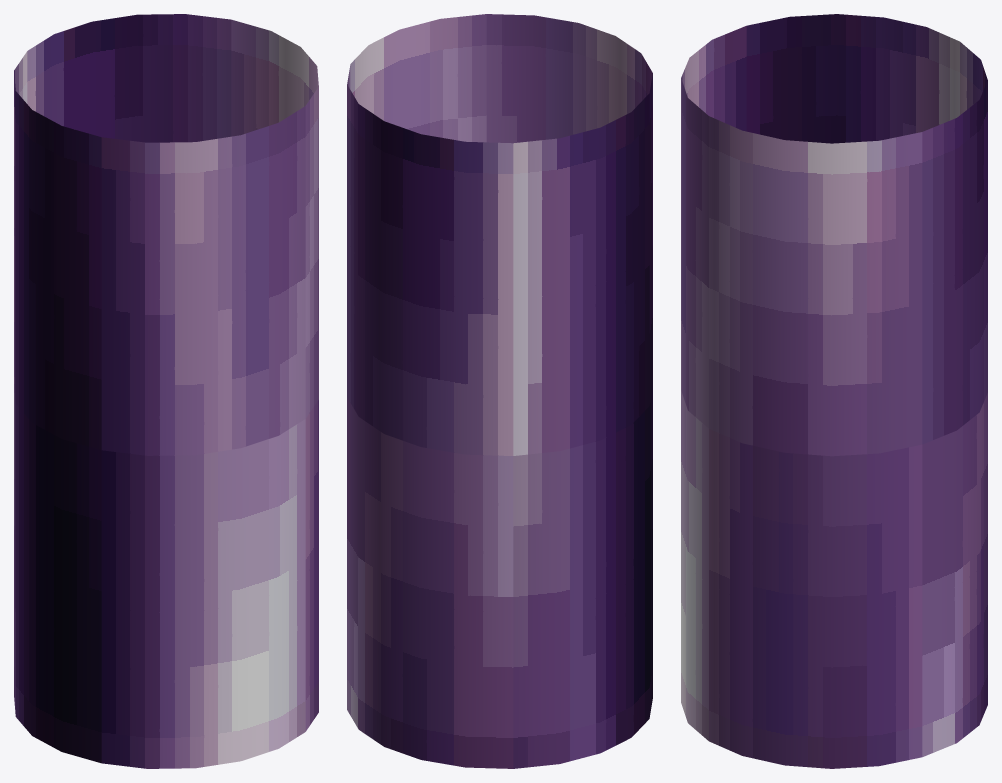
The model's file is effect005_02.FBX.
3 renders of one model, left to right at view 1: azimuth 30°, elevation 25°; view 2: azimuth 150°, elevation 25°; view 3: azimuth 270°, elevation 25°, orthographic.
Visible parts, largest first — view 1: Cone002; view 2: Cone002; view 3: Cone002.
Part boxes in pixels (x1=…): Cone002: x1=14, y1=14, x2=318, y2=768; Cone002: x1=347, y1=14, x2=652, y2=768; Cone002: x1=681, y1=14, x2=987, y2=768.
Bounding box in the file's own units: 112 × 252 × 112.
